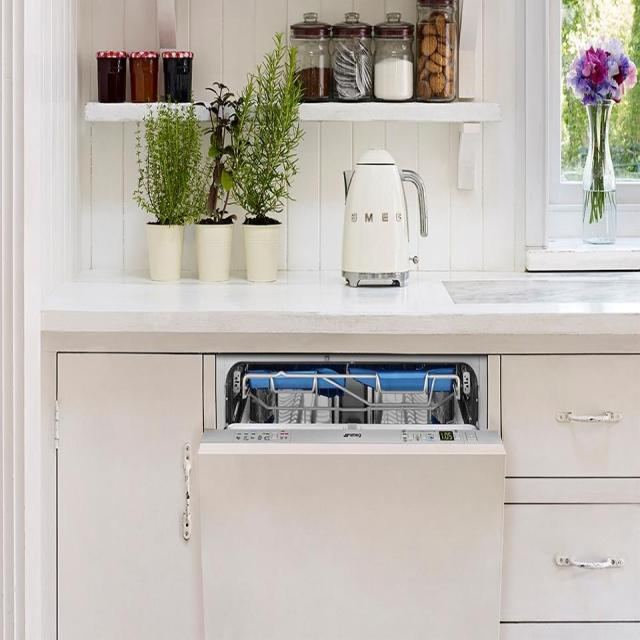dishwasher: (188, 326, 509, 640)
